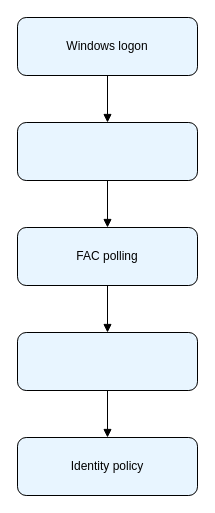
Image size: 215x513. Some labels were removed from this diagram. Each missing label, with the box of its shape:
DC event: (16, 122, 198, 180)
FSSO mapping: (16, 332, 198, 390)
